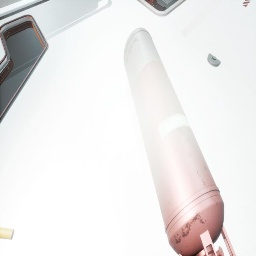NitrogenTank ,: (124, 27, 236, 256), (144, 0, 152, 4)
